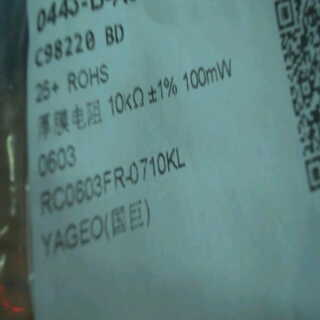10kR: (106, 85, 148, 114)
